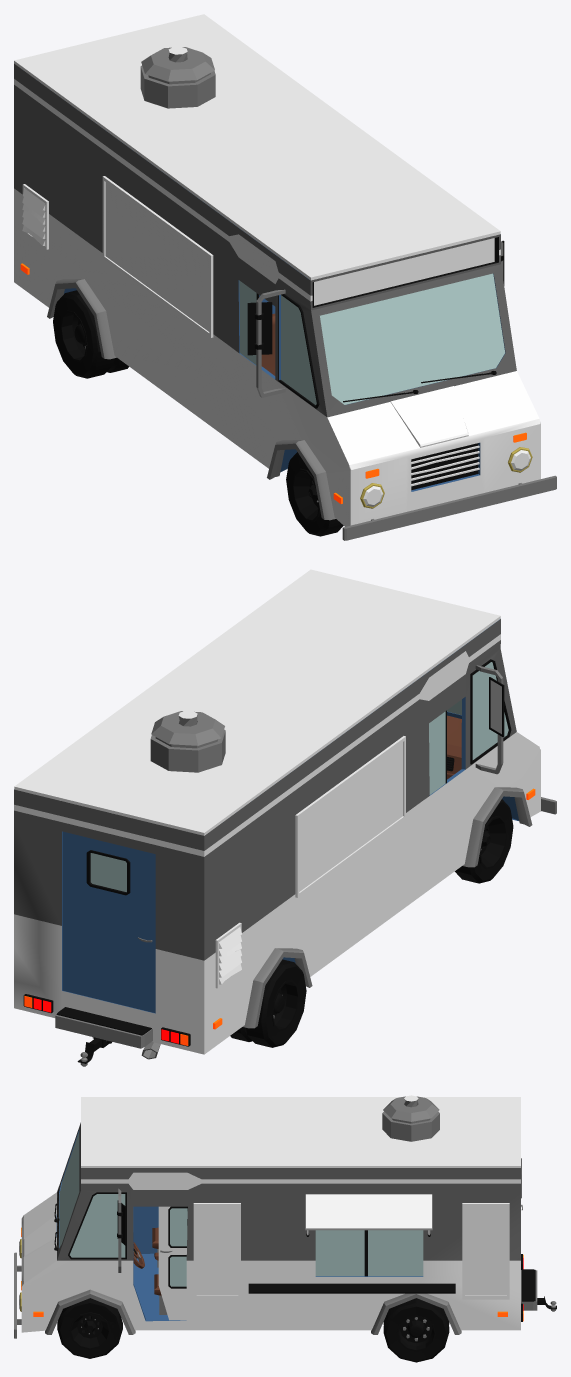
File: Food Truck 2.fbx
3 renders of one model, top to bottom at view 1: azimuth 30°, elevation 25°; view 2: azimuth 150°, elevation 25°; view 3: azimuth 270°, elevation 25°, orthographic. The views are drawn at different scales.
Visible parts, largest first — view 1: MainBody; view 2: MainBody; view 3: MainBody.
Part boxes in pixels (x1,y1,x2,y2): MainBody: (14, 14, 556, 540); MainBody: (14, 569, 556, 1066); MainBody: (14, 1095, 556, 1362).
Bounding box in the file's own units: 3.46 × 3.61 × 7.87.
